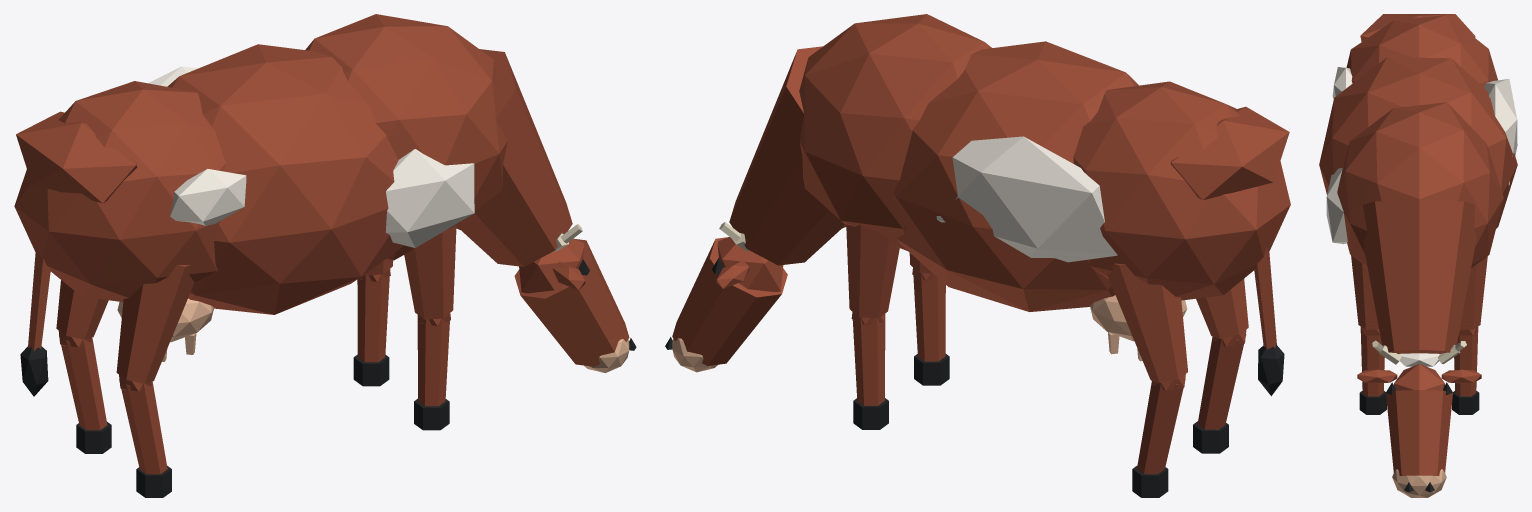
The model's file is ko_bete.glb.
3 renders of one model, left to right at view 1: azimuth 30°, elevation 25°; view 2: azimuth 150°, elevation 25°; view 3: azimuth 270°, elevation 25°, orthographic. The views are drawn at different scales.
Visible parts, largest first — view 1: ko_bete; view 2: ko_bete; view 3: ko_bete.
Boxes of the visible parts, <box> form: ko_bete: <box>14,14,636,497</box>; ko_bete: <box>665,14,1290,497</box>; ko_bete: <box>1319,14,1517,497</box>.
Bounding box in the file's own units: 2.56 × 1.59 × 0.9446.
